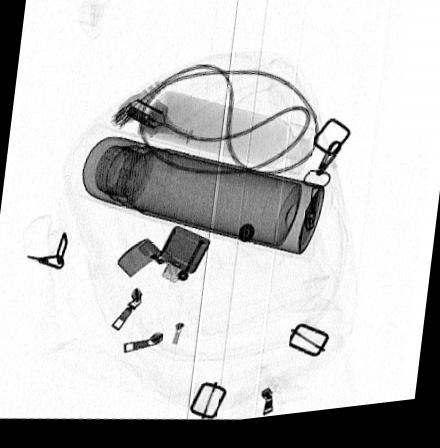Lighter: (116, 228, 211, 288)
